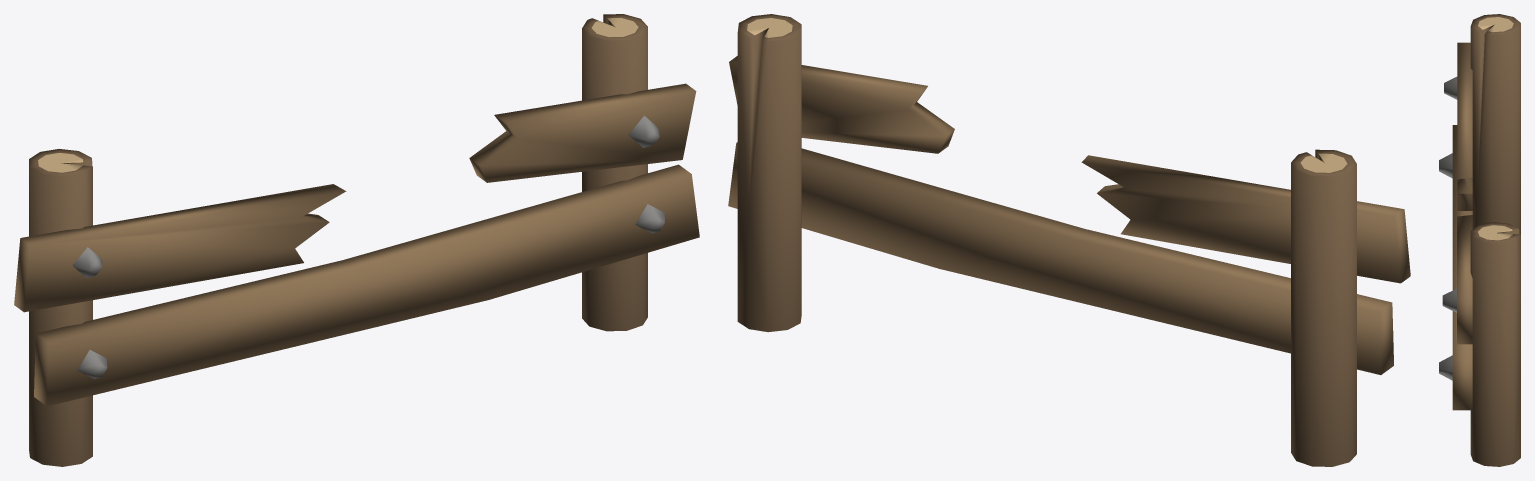
Rendered from rpgpp_av_fence_02a_3m.gltf.
3 renders of one model, left to right at view 1: azimuth 30°, elevation 25°; view 2: azimuth 150°, elevation 25°; view 3: azimuth 270°, elevation 25°, orthographic. The views are drawn at different scales.
Visible parts, largest first — view 1: rpgpp_av_fence_02a_3m; view 2: rpgpp_av_fence_02a_3m; view 3: rpgpp_av_fence_02a_3m.
Boxes of the visible parts, x1,y1,x2,y2 form: rpgpp_av_fence_02a_3m: (14, 14, 699, 466); rpgpp_av_fence_02a_3m: (728, 14, 1410, 466); rpgpp_av_fence_02a_3m: (1439, 14, 1520, 466).
Bounding box in the file's own units: 0.0326 × 0.0135 × 0.00447.
Materials: 1 (1 with a texture image).
